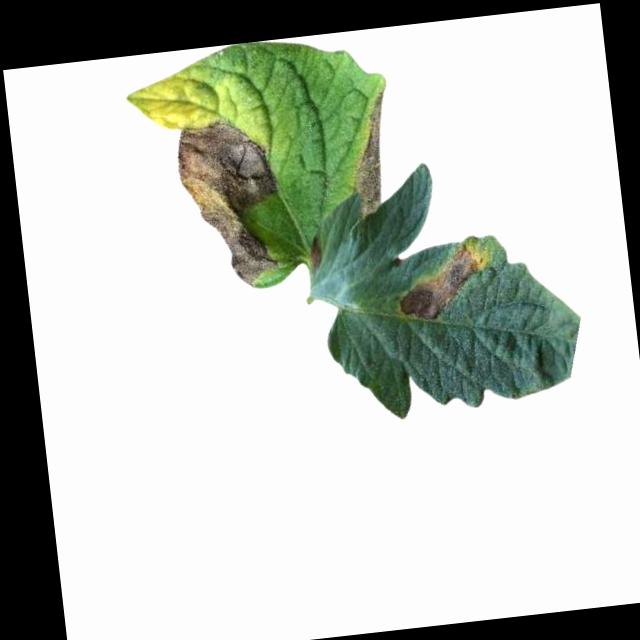Early_blight: (173, 113, 289, 294), (393, 238, 492, 324), (344, 91, 398, 219), (307, 235, 323, 271)
